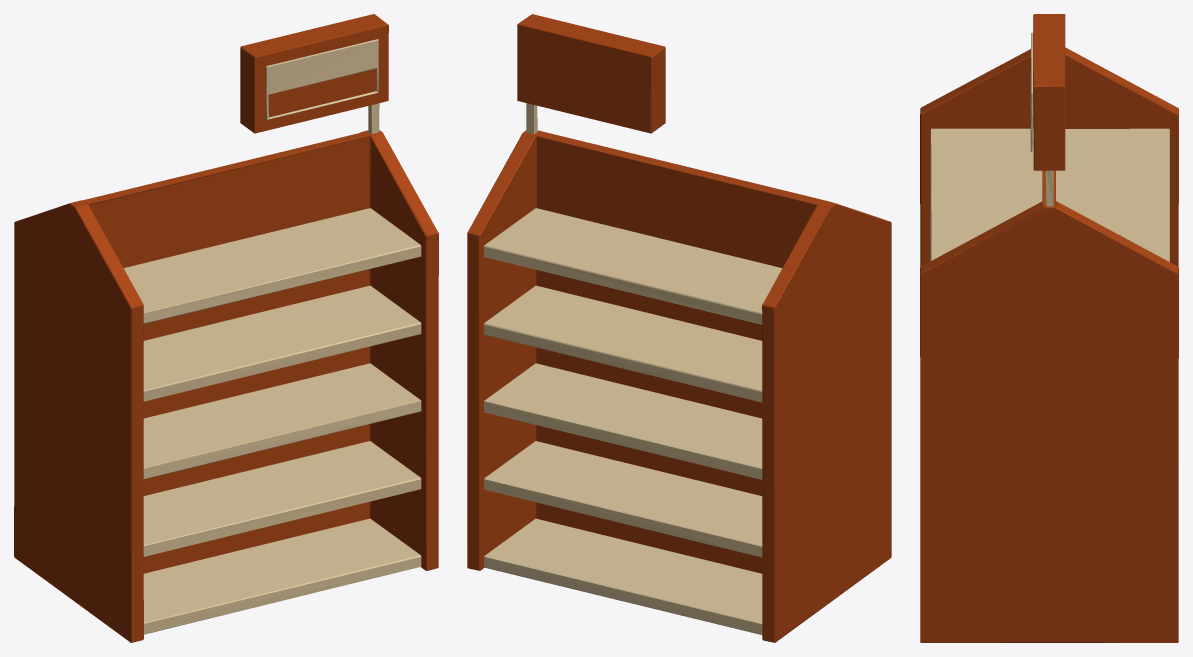
Rendered from ss-shelf.lod1.glb.
The picture shows the model from 3 angles, left to right: view 1: azimuth 30°, elevation 25°; view 2: azimuth 150°, elevation 25°; view 3: azimuth 270°, elevation 25°; orthographic projection. The views are drawn at different scales.
Parts seen in each view (by area): view 1: Object_101; view 2: Object_101; view 3: Object_101.
Part boxes in pixels (x1,y1,x2,y2): Object_101: [14, 14, 438, 642]; Object_101: [467, 14, 891, 642]; Object_101: [920, 14, 1178, 642].
Size of the model in its own units: 1.8 by 2.81 by 1.18.
